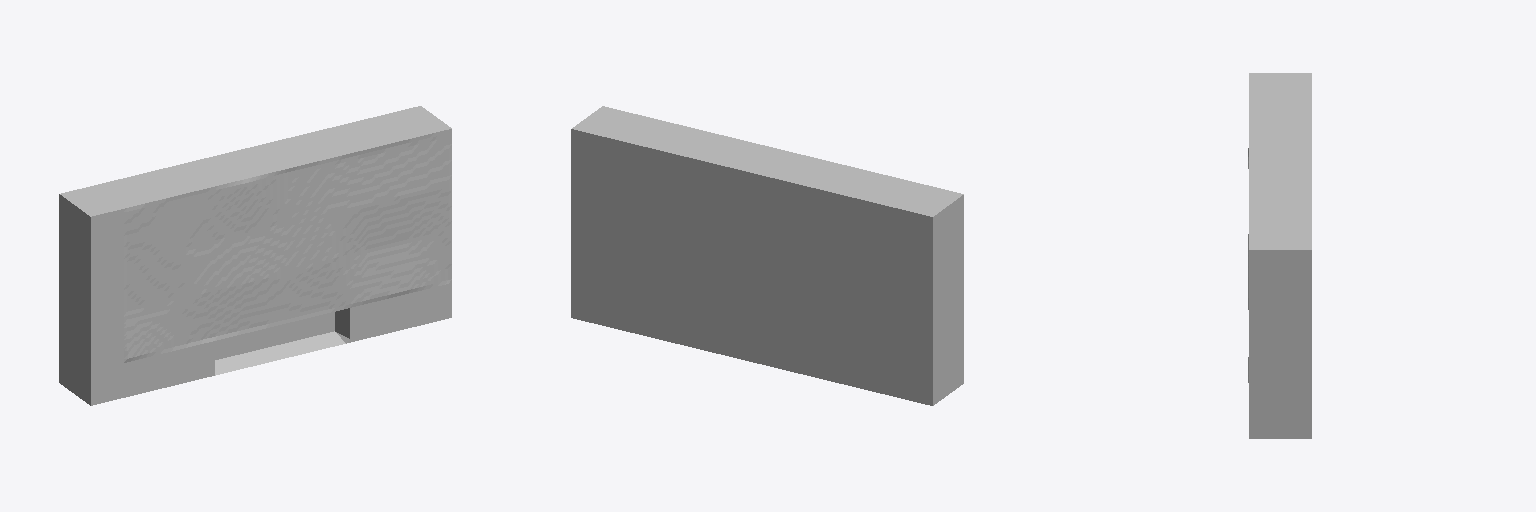
File: rectangular_prism_bumps_0_2.obj
The picture shows the model from 3 angles: view 1: azimuth 30°, elevation 25°; view 2: azimuth 150°, elevation 25°; view 3: azimuth 270°, elevation 25°; orthographic projection.
Bounding box in the file's own units: 10 × 5 × 1.52.